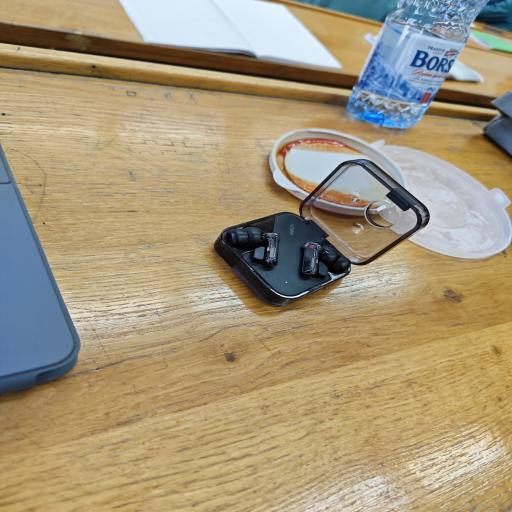Headphones: (205, 157, 437, 311)
